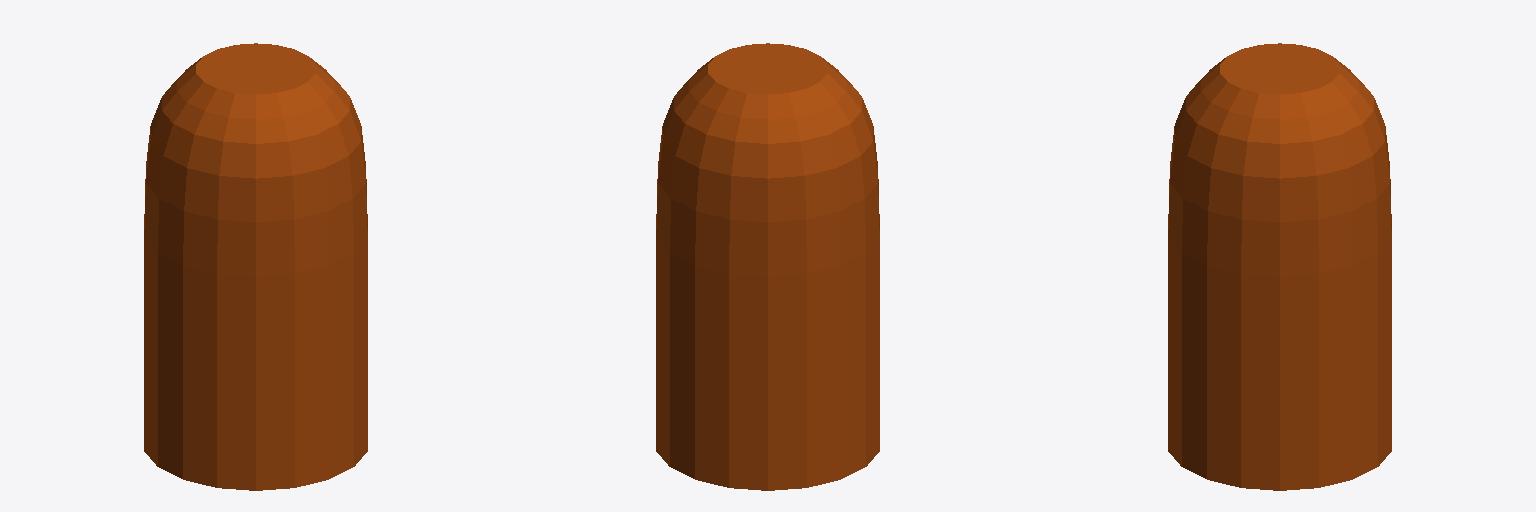
File: Bala.obj
3 views of the same model, side by side, from view 1: azimuth 30°, elevation 25°; view 2: azimuth 150°, elevation 25°; view 3: azimuth 270°, elevation 25° (orthographic).
Visible parts, largest first — view 1: Bala_Low_Poly; view 2: Bala_Low_Poly; view 3: Bala_Low_Poly.
Boxes of the visible parts, x1=… form: Bala_Low_Poly: x1=144, y1=43, x2=367, y2=490; Bala_Low_Poly: x1=656, y1=43, x2=879, y2=490; Bala_Low_Poly: x1=1168, y1=43, x2=1391, y2=490.
Bounding box in the file's own units: 30.84 × 56.13 × 30.37.